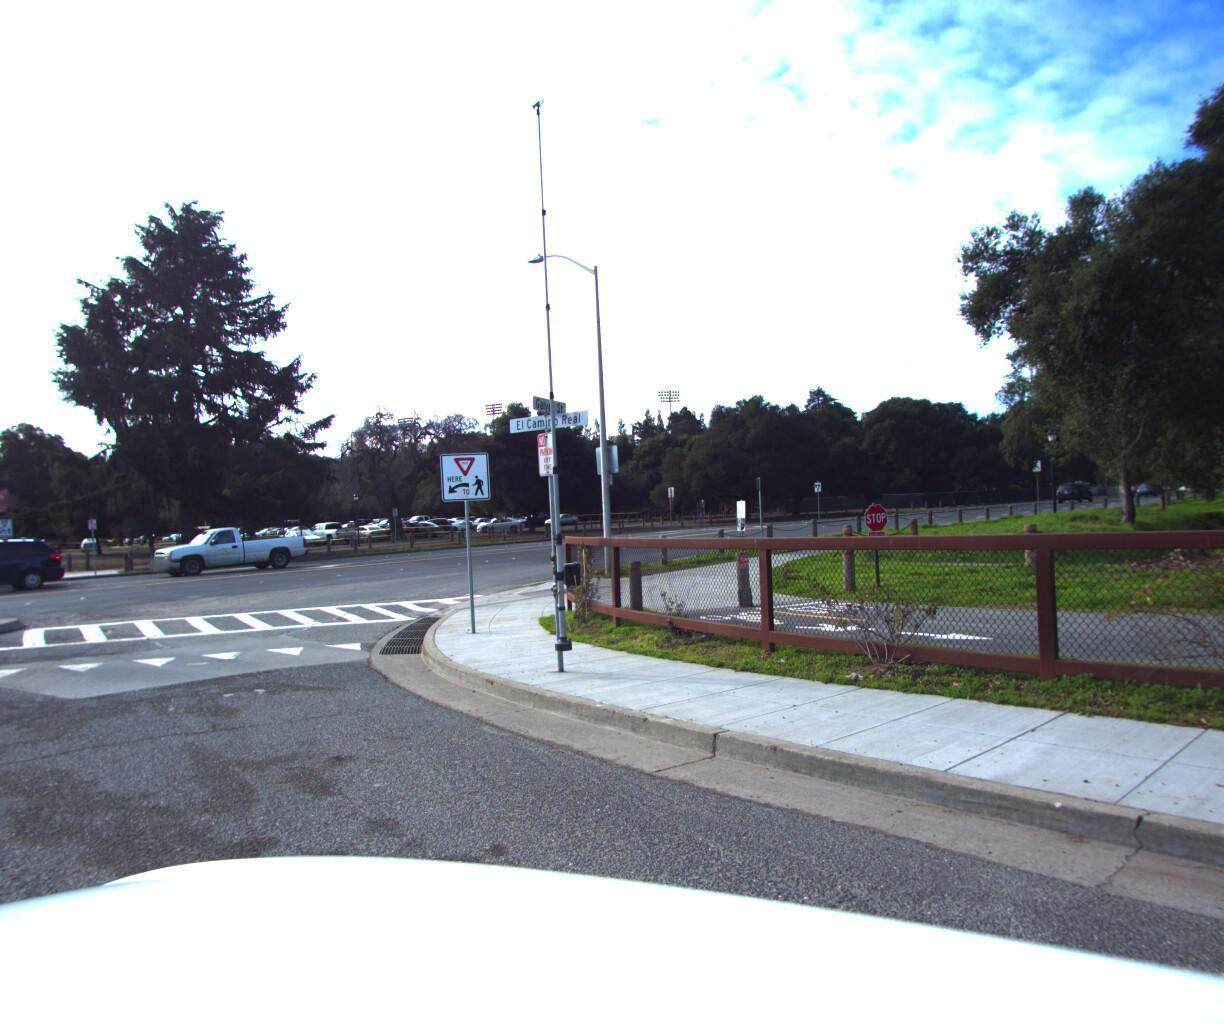car: (138, 511, 311, 576), (0, 530, 67, 600), (1052, 479, 1091, 500)
